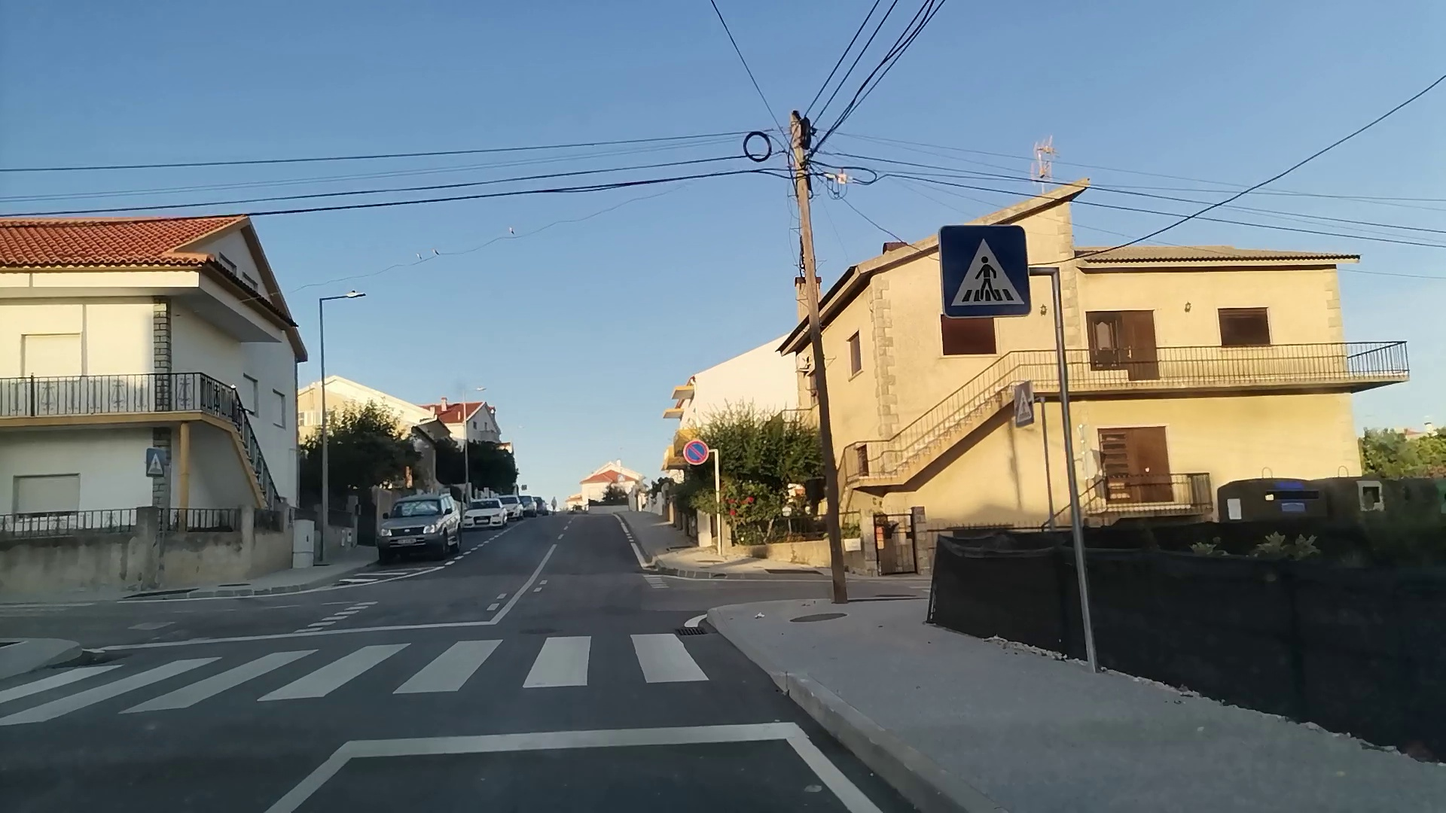Stairs: (4, 632, 720, 738)
